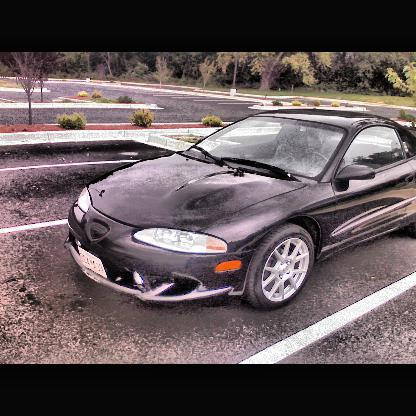Eagle Talon Hatchback 1998: (67, 115, 416, 316)
